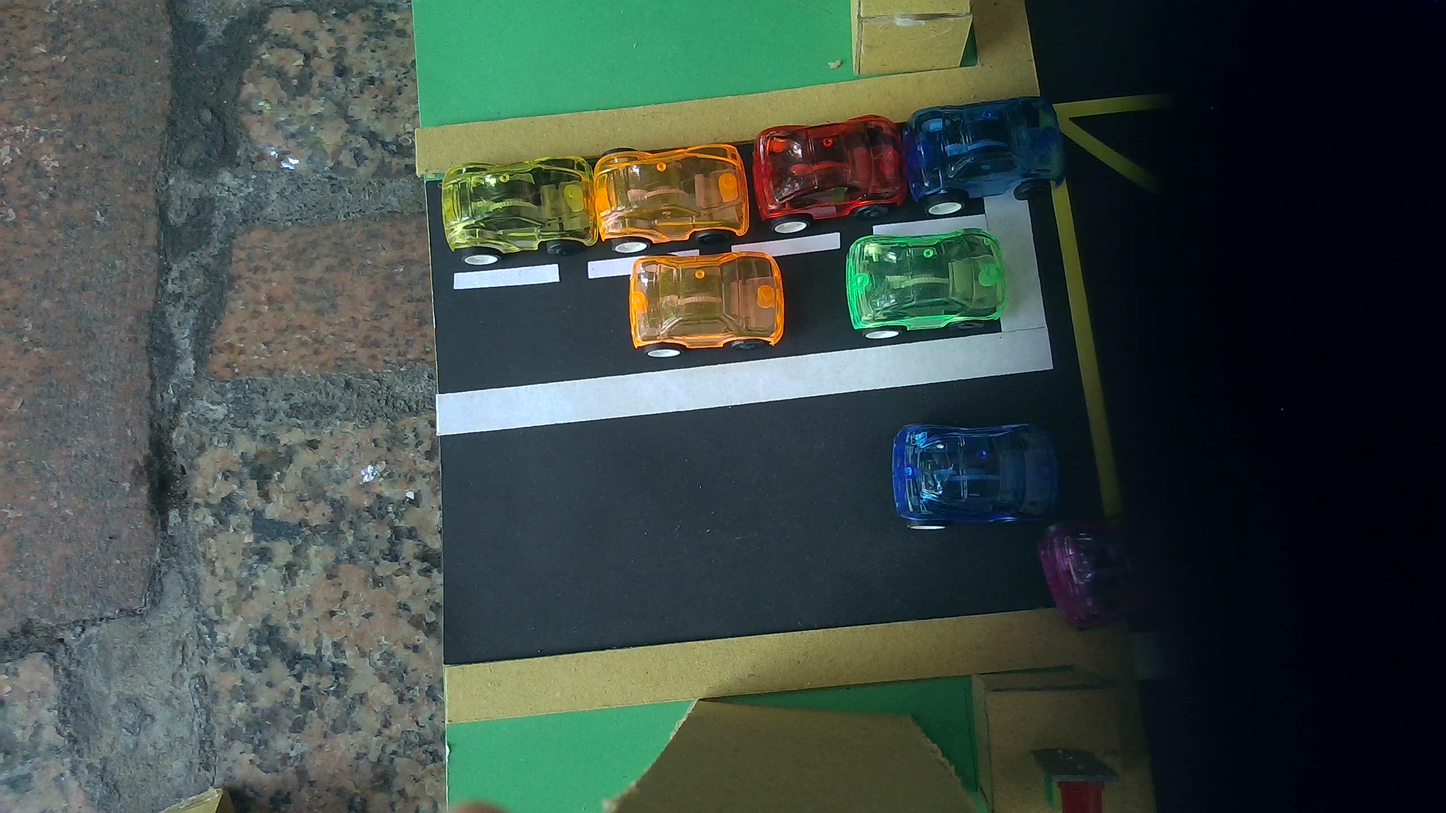Mobil biru: (903, 97, 1064, 216)
Mobil hijau: (846, 228, 1007, 338)
Mobil kuning: (441, 158, 596, 265)
Mobil merah: (754, 115, 908, 233)
Mobil orange: (592, 144, 750, 253), (628, 252, 785, 356)
